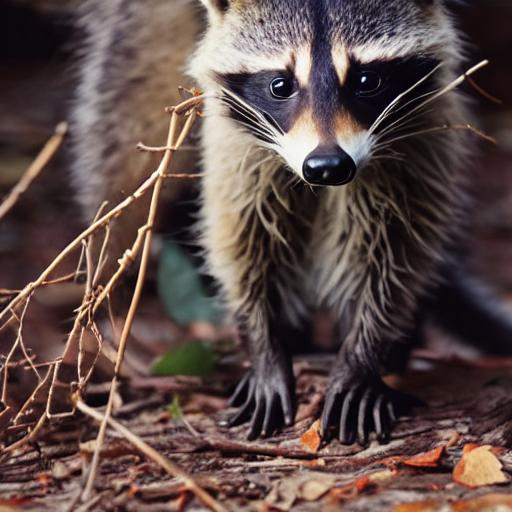raccoon: (58, 0, 490, 340)
